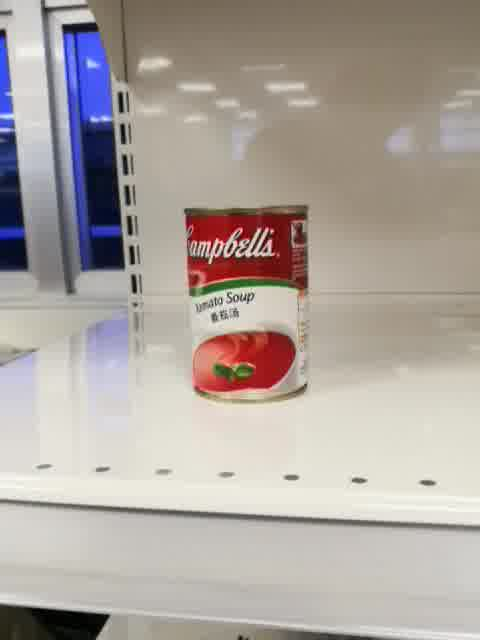tomatosoup: (181, 203, 314, 406)
